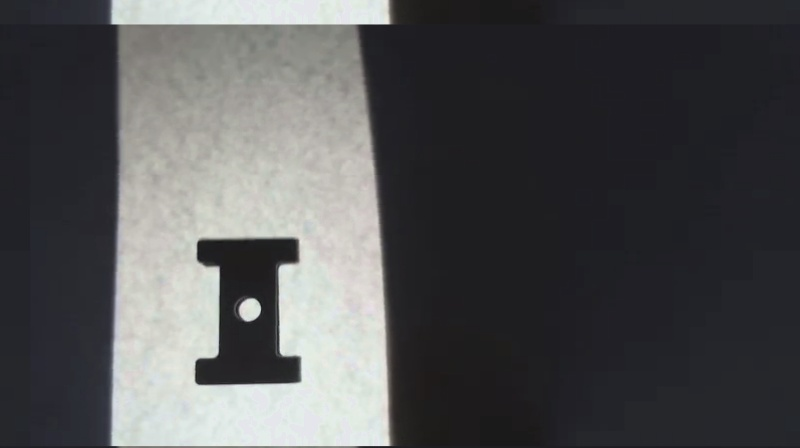O002: (188, 230, 307, 392)
